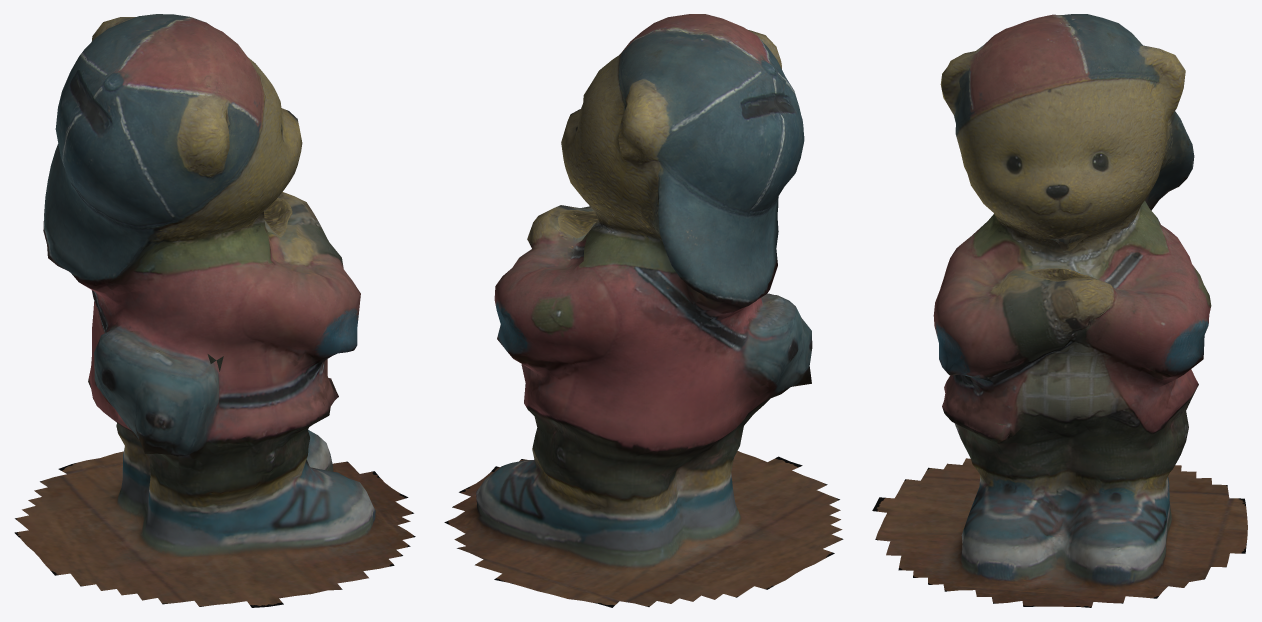
Rendered from teddy_bear_a8c9b2a2.glb.
3 renders of one model, left to right at view 1: azimuth 30°, elevation 25°; view 2: azimuth 150°, elevation 25°; view 3: azimuth 270°, elevation 25°, orthographic. The views are drawn at different scales.
Visible parts, largest first — view 1: bear_0; view 2: bear_0; view 3: bear_0.
Part boxes in pixels (<box>): bear_0: <box>14,14,415,607</box>; bear_0: <box>444,14,843,607</box>; bear_0: <box>872,14,1247,607</box>.
Size of the model in its own units: 0.3926 by 0.5494 by 0.3856.
Materials: 1 (1 with a texture image).
